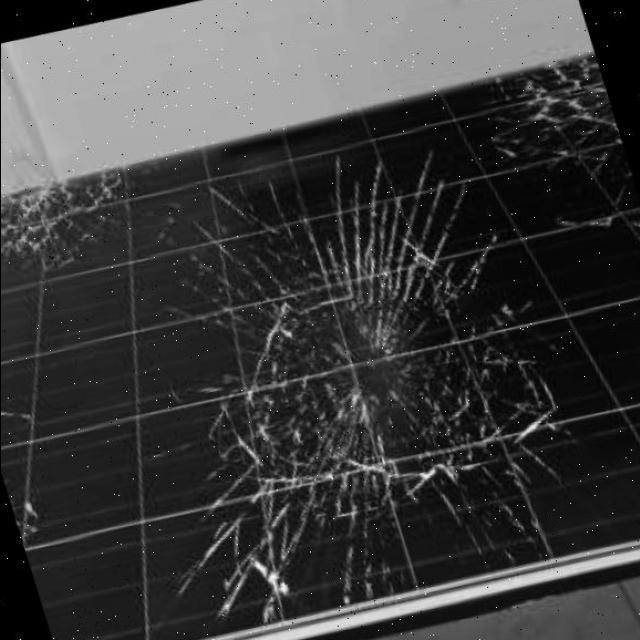Anomaly Solar Panel: (0, 50, 640, 640)
Structural Damage: (53, 100, 640, 640), (0, 161, 190, 320), (483, 57, 640, 237), (0, 363, 73, 551)
